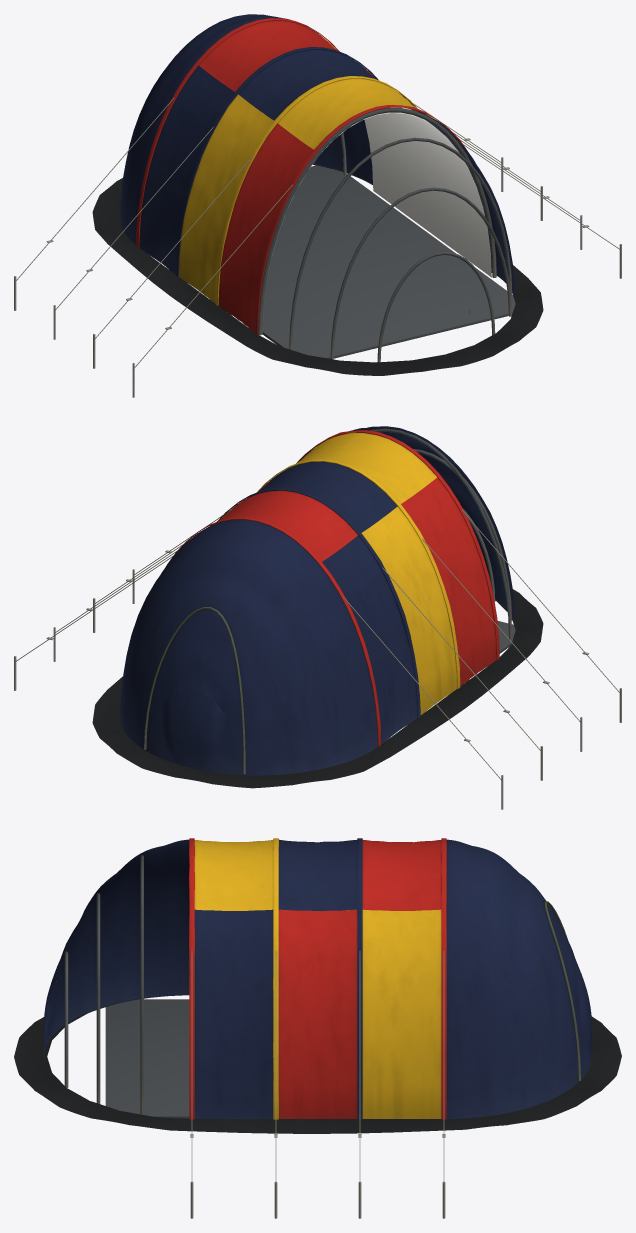
The model's file is endurance-deployed.glb.
The picture shows the model from 3 angles, top to bottom: view 1: azimuth 30°, elevation 25°; view 2: azimuth 150°, elevation 25°; view 3: azimuth 270°, elevation 25°; orthographic projection. The views are drawn at different scales.
Visible parts, largest first — view 1: ENDURANCE_shelter, ENDURANCE_interior; view 2: ENDURANCE_shelter; view 3: ENDURANCE_shelter.
Boxes of the visible parts, x1,y1,x2,y2 form: ENDURANCE_shelter: (14,14,621,397); ENDURANCE_interior: (262,107,491,333); ENDURANCE_shelter: (14,426,621,809); ENDURANCE_shelter: (14,838,621,1218).
Size of the model in its own units: 5.42 by 2.44 by 5.49.
Materials: 11 (7 with a texture image).
